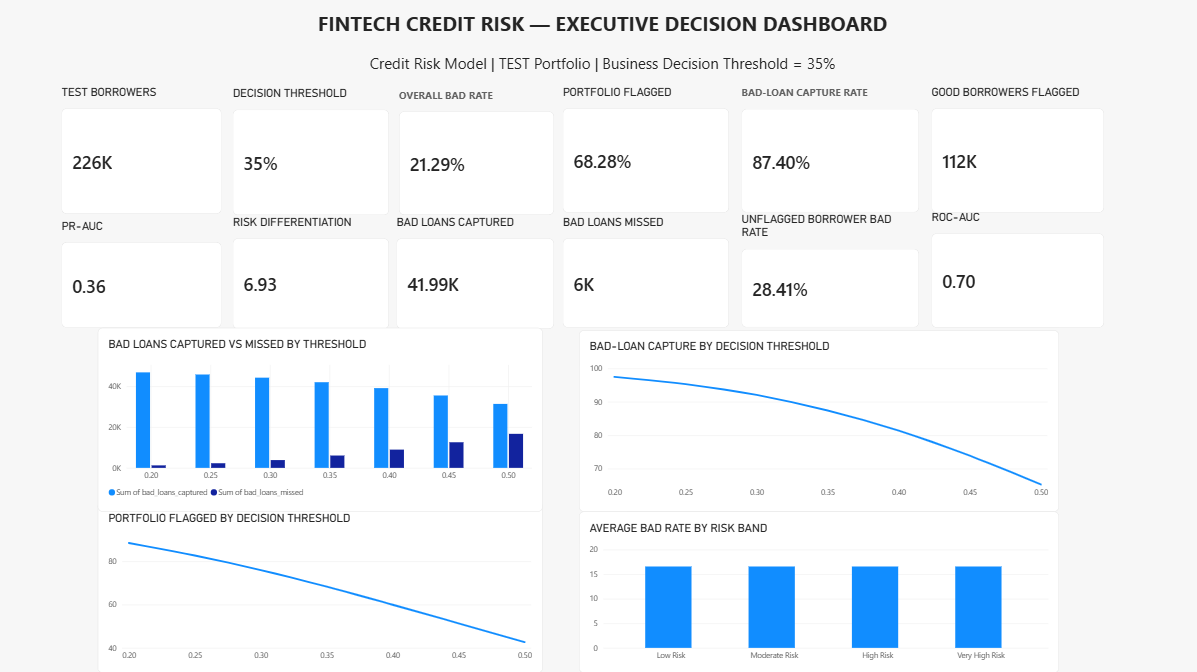

The dashboard page shown, as its layout file describes it:
{"tool":"powerbi","page":{"name":"Page 1","canvas":[1920,1080],"ordinal":0},"visuals":[{"type":"textbox","box":[9.1,15.9,1911.4,52.3],"z":0},{"type":"textbox","box":[9.1,86.4,1911.4,68.2],"z":1},{"type":"cardVisual","title":"TEST BORROWERS","fields":{"Data":["Sum(Risk Segmentation.borrower_count)"]},"box":[100,138,256,206],"z":2},{"type":"cardVisual","fields":{"Data":["Model Governance.Overall Bad Rate"]},"box":[640,142,248,204],"z":3},{"type":"cardVisual","title":"ROC-AUC","fields":{"Data":["Avg(Model Performance.roc_auc)"]},"box":[1492,338,276,188],"z":4},{"type":"cardVisual","title":"PR-AUC","fields":{"Data":["Avg(Model Performance.pr_auc)"]},"box":[100,352,256,174],"z":5},{"type":"cardVisual","title":"DECISION THRESHOLD","fields":{"Data":["Avg(Threshold Monitoring.threshold)"]},"box":[374,140,250,206],"z":6},{"type":"cardVisual","title":"PORTFOLIO FLAGGED","fields":{"Data":["Model Governance.Portfolio Flagged Display"]},"box":[902,138,266,204],"z":7},{"type":"cardVisual","title":"BAD LOANS CAPTURED","fields":{"Data":["Avg(Portfolio Impact.bad_loans_captured)"]},"box":[636,346,252,182],"z":8},{"type":"cardVisual","fields":{"Data":["Model Governance.Bad Loan Capture Rate"]},"box":[1188,138,284,204],"z":9},{"type":"cardVisual","title":"GOOD BORROWERS FLAGGED","fields":{"Data":["Sum(Portfolio Impact.good_loans_flagged)"]},"box":[1492,138,276,204],"z":10},{"type":"cardVisual","title":"RISK DIFFERENTIATION","fields":{"Data":["Risk Segmentation.Risk Differentiation"]},"box":[374,346,250,182],"z":11},{"type":"clusteredColumnChart","title":"AVERAGE BAD RATE BY RISK BAND","fields":{"Category":["Risk Band Sort.risk_band"],"Y":["Avg(Risk Segmentation.actual_bad_rate)"]},"box":[928,820,768,260],"z":12},{"type":"cardVisual","title":"BAD LOANS MISSED","fields":{"Data":["Sum(Portfolio Impact.bad_loans_missed)"]},"box":[902,346,266,180],"z":13},{"type":"lineChart","title":"PORTFOLIO FLAGGED BY DECISION THRESHOLD","fields":{"Category":["Portfolio Impact.threshold"],"Y":["Avg(Portfolio Impact.portfolio_flagged_pct)"]},"box":[158,804,712,276],"z":14},{"type":"lineChart","title":"BAD-LOAN CAPTURE BY DECISION THRESHOLD","fields":{"Category":["Portfolio Impact.threshold"],"Y":["Avg(Portfolio Impact.bad_loan_capture_pct)"]},"box":[928,530,768,290],"z":15},{"type":"cardVisual","title":"UNFLAGGED BORROWER BAD RATE","fields":{"Data":["Model Governance.Unflagged Group Bad Rate"]},"box":[1188,342,284,184],"z":16},{"type":"clusteredColumnChart","title":"BAD LOANS CAPTURED VS MISSED BY THRESHOLD","fields":{"Category":["Portfolio Impact.threshold"],"Y":["Sum(Portfolio Impact.bad_loans_captured)","Sum(Portfolio Impact.bad_loans_missed)"]},"box":[158,526,712,294],"z":17}]}

Visuals, with their boxes in screenshot pixels (x1, y1, x2, y2), scaled from the page's 1920x1080 canvas onto the 1197x672 screenshot:
textbox: rect(6, 10, 1196, 42)
textbox: rect(6, 54, 1196, 96)
"TEST BORROWERS" cardVisual: rect(62, 86, 222, 214)
cardVisual - Model Governance.Overall Bad Rate: rect(399, 88, 554, 215)
"ROC-AUC" cardVisual: rect(930, 210, 1102, 327)
"PR-AUC" cardVisual: rect(62, 219, 222, 327)
"DECISION THRESHOLD" cardVisual: rect(233, 87, 389, 215)
"PORTFOLIO FLAGGED" cardVisual: rect(562, 86, 728, 213)
"BAD LOANS CAPTURED" cardVisual: rect(397, 215, 554, 329)
cardVisual - Model Governance.Bad Loan Capture Rate: rect(741, 86, 918, 213)
"GOOD BORROWERS FLAGGED" cardVisual: rect(930, 86, 1102, 213)
"RISK DIFFERENTIATION" cardVisual: rect(233, 215, 389, 329)
"AVERAGE BAD RATE BY RISK BAND" clusteredColumnChart: rect(579, 510, 1057, 671)
"BAD LOANS MISSED" cardVisual: rect(562, 215, 728, 327)
"PORTFOLIO FLAGGED BY DECISION THRESHOLD" lineChart: rect(99, 500, 542, 671)
"BAD-LOAN CAPTURE BY DECISION THRESHOLD" lineChart: rect(579, 330, 1057, 510)
"UNFLAGGED BORROWER BAD RATE" cardVisual: rect(741, 213, 918, 327)
"BAD LOANS CAPTURED VS MISSED BY THRESHOLD" clusteredColumnChart: rect(99, 327, 542, 510)
